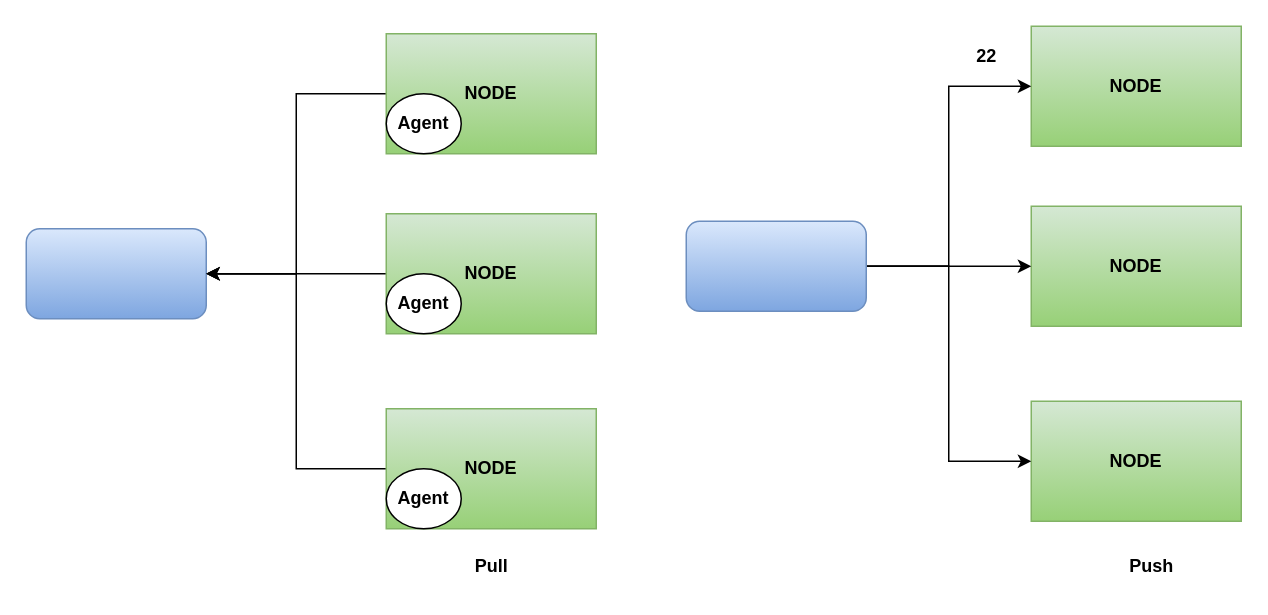
This 1268x615 diagram has some shape labels left out. The centre of each missing label's shape, as x and y in pixels:
"Ansibe Server" goes at pixel 775 265.
"CM Server" goes at pixel 115 273.
